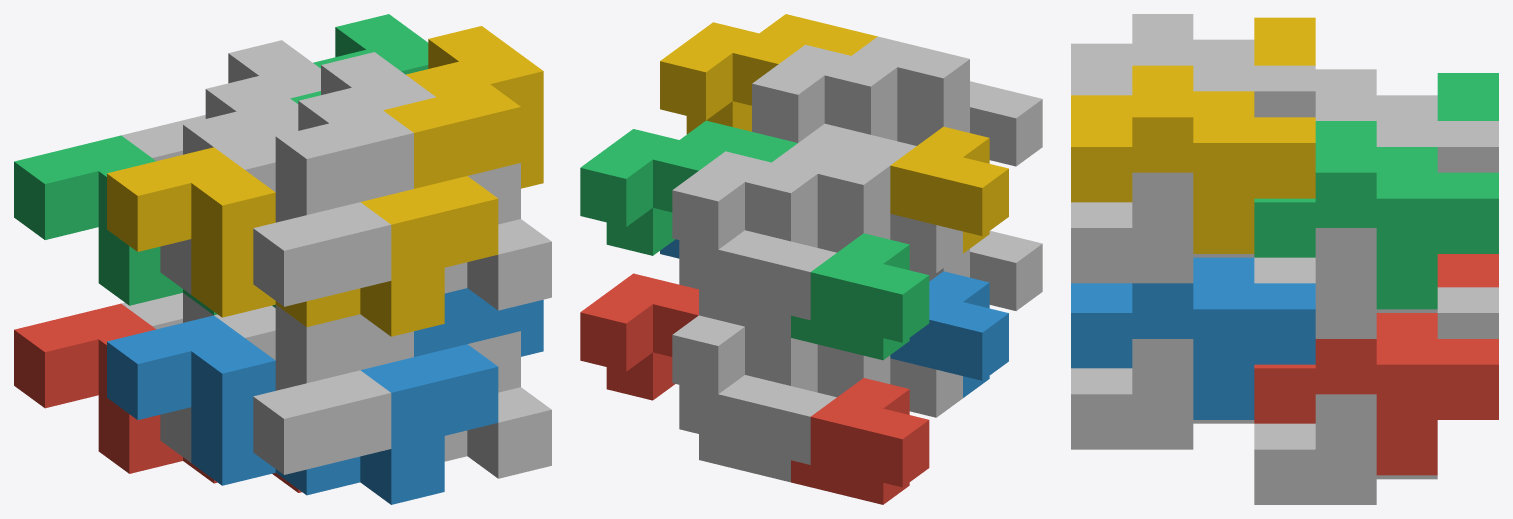
Rendered from tiling.obj.
The picture shows the model from 3 angles, left to right: view 1: azimuth 30°, elevation 25°; view 2: azimuth 150°, elevation 25°; view 3: azimuth 270°, elevation 25°; orthographic projection. The views are drawn at different scales.
Parts seen in each view (by area): view 1: copy_2_domain_4, copy_2_domain_8, copy_1_domain_2, copy_1_domain_4, copy_2_domain_2, copy_2_domain_6, copy_1_domain_1, copy_1_domain_3, copy_2_domain_3, copy_1_domain_8, copy_1_domain_6, copy_2_domain_7 (+3 smaller); view 2: copy_2_domain_4, copy_2_domain_3, copy_2_domain_1, copy_2_domain_7, copy_1_domain_3, copy_1_domain_1, copy_2_domain_8, copy_1_domain_7, copy_1_domain_5, copy_2_domain_5, copy_1_domain_4, copy_1_domain_2 (+2 smaller); view 3: copy_2_domain_8, copy_2_domain_7, copy_2_domain_6, copy_2_domain_5, copy_2_domain_4, copy_1_domain_5, copy_1_domain_8, copy_1_domain_6, copy_2_domain_3, copy_1_domain_7, copy_2_domain_1, copy_1_domain_4 (+2 smaller).
Boxes of the visible parts, x1,y1,x2,y2 form: copy_2_domain_4: (253,52,435,306); copy_2_domain_8: (360,26,543,280); copy_1_domain_2: (107,315,444,504); copy_1_domain_4: (107,147,444,336); copy_2_domain_2: (253,305,413,474); copy_2_domain_6: (360,288,543,448); copy_1_domain_1: (14,303,301,492); copy_1_domain_3: (14,135,275,315); copy_2_domain_3: (160,40,320,294); copy_1_domain_8: (214,127,551,310); copy_1_domain_6: (214,305,551,478); copy_2_domain_7: (290,14,428,103); copy_2_domain_4: (752,36,1042,166); copy_2_domain_3: (672,143,962,272); copy_2_domain_1: (672,315,962,417); copy_2_domain_7: (580,120,797,255); copy_1_domain_3: (791,233,929,360); copy_1_domain_1: (791,378,929,504); copy_2_domain_8: (660,14,877,134); copy_1_domain_7: (679,222,836,337); copy_1_domain_5: (679,367,836,482); copy_2_domain_5: (580,273,698,400); copy_1_domain_4: (890,126,1008,253); copy_1_domain_2: (890,271,1008,397); copy_2_domain_8: (1071,65,1315,253); copy_2_domain_7: (1254,121,1498,309); copy_2_domain_6: (1071,257,1315,419); copy_2_domain_5: (1254,313,1498,475); copy_2_domain_4: (1071,14,1315,117); copy_1_domain_5: (1254,394,1437,504); copy_1_domain_8: (1071,172,1254,283); copy_1_domain_6: (1071,339,1254,449); copy_2_domain_3: (1315,69,1498,172); copy_1_domain_7: (1254,228,1437,338); copy_2_domain_1: (1437,287,1498,338); copy_1_domain_4: (1254,17,1315,65).
Bounding box in the file's own units: 7 × 7 × 7.
